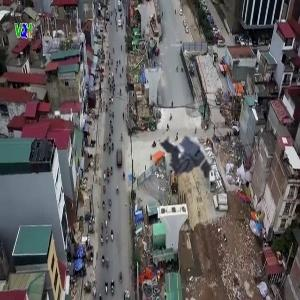drone: (151, 114, 234, 197)
